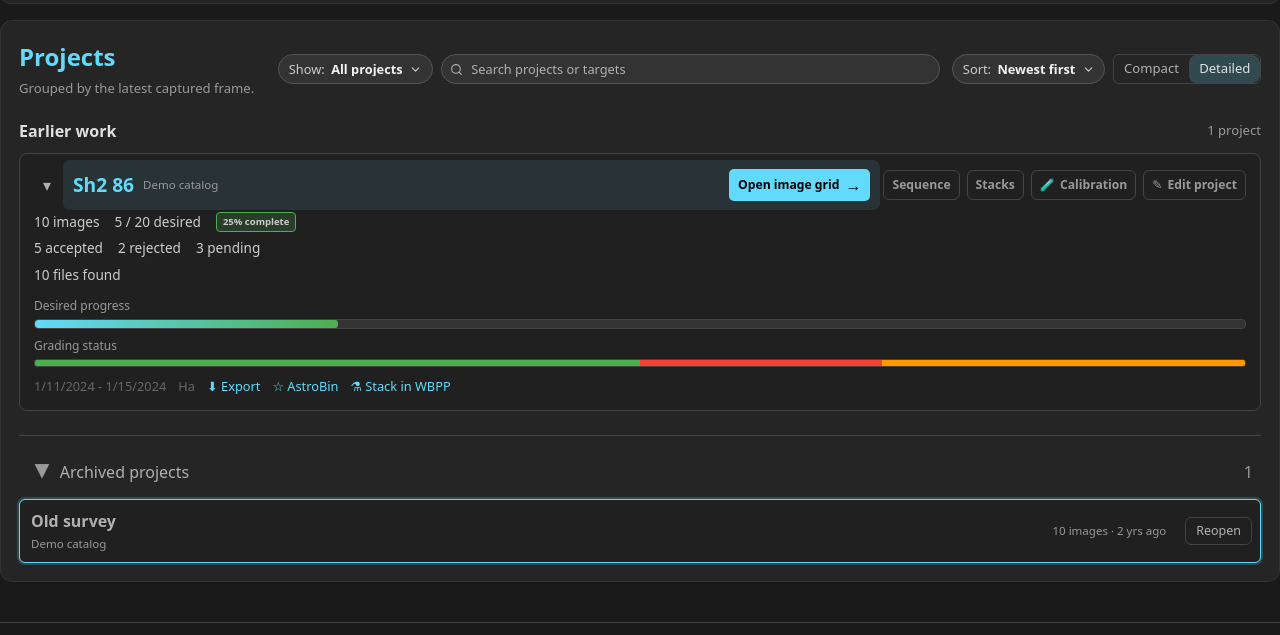
Overview return scope › reopens an archived project as Inactive and says so beside the archive
The width and height of the screenshot is (1280, 635).
Step 1. Click the button with aria-label "Reopen Old survey on Demo catalog" → x=1219, y=531, box [1185,517,1252,545]
(page scrolled)
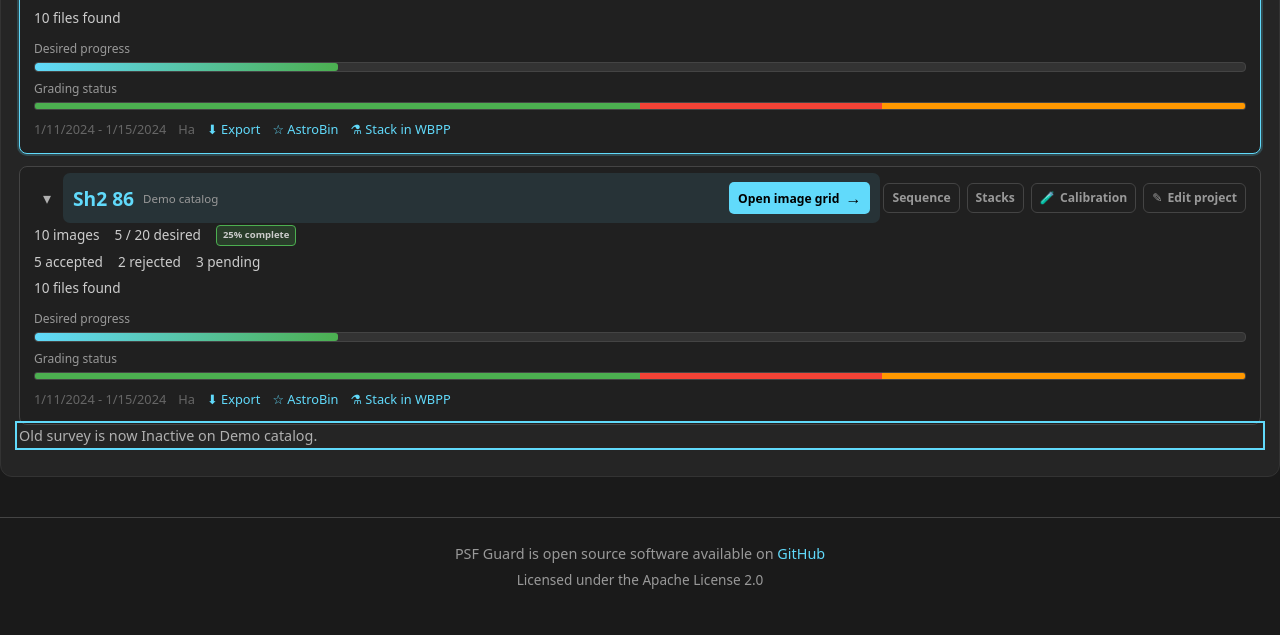
Now the message reads "Old survey is now Inactive on Demo catalog.", box [19,426,317,445]
